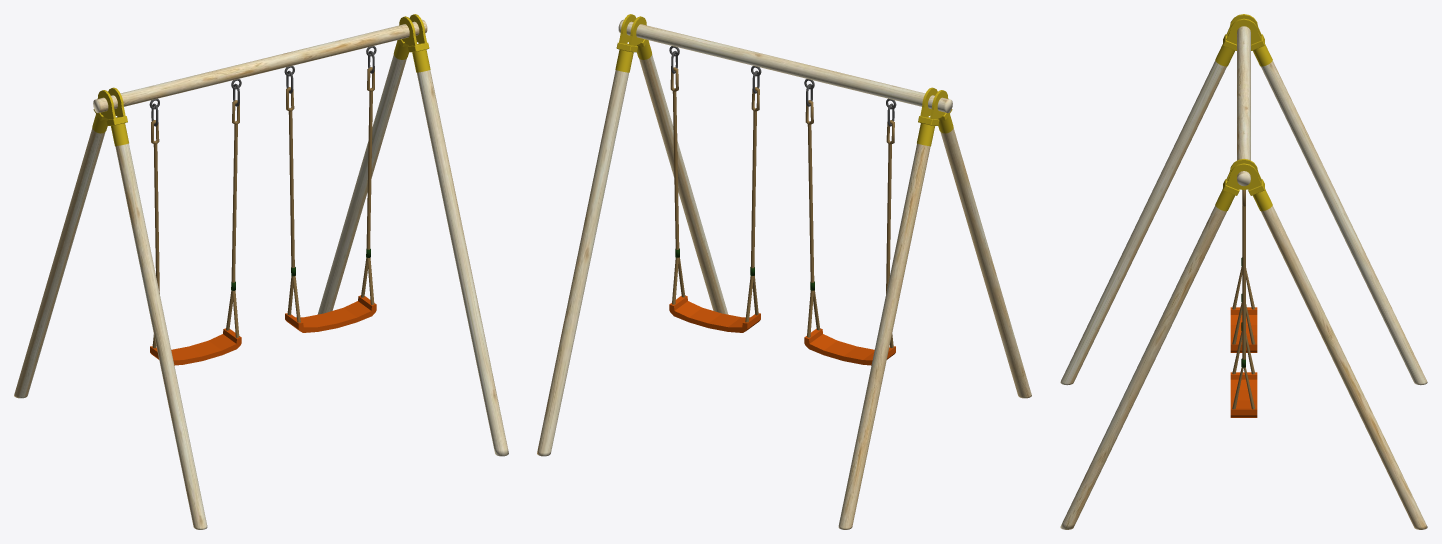
Rendered from child_swing.obj.
3 views of the same model, side by side, from view 1: azimuth 30°, elevation 25°; view 2: azimuth 150°, elevation 25°; view 3: azimuth 270°, elevation 25° (orthographic).
Visible parts, largest first — view 1: Cylinder.004_Cylinder.007, Cylinder.001_Cylinder.004, Cylinder.002_Cylinder.005, Cylinder_Cylinder.003, Cylinder.003_Cylinder.006, Cylinder.005_Cylinder.008, Circle.001_Circle.002, Circle.000_Circle.004, Cube.001_Cube.002, Cube_Cube.001; view 2: Cylinder.003_Cylinder.006, Cylinder_Cylinder.003, Cylinder.002_Cylinder.005, Cylinder.001_Cylinder.004, Cylinder.004_Cylinder.007, Cylinder.005_Cylinder.008, Circle.001_Circle.002, Circle.000_Circle.004, Cube.001_Cube.002, Cube_Cube.001; view 3: Cylinder.004_Cylinder.007, Cylinder.003_Cylinder.006, Cylinder.001_Cylinder.004, Cylinder_Cylinder.003, Cylinder.005_Cylinder.008, Cylinder.002_Cylinder.005, Circle.001_Circle.002, Cube.001_Cube.002, Cube_Cube.001, Circle.000_Circle.004.
Boxes of the visible parts, x1,y1,x2,y2 form: Cylinder.004_Cylinder.007: (417, 70, 508, 456); Cylinder.001_Cylinder.004: (115, 143, 207, 529); Cylinder.002_Cylinder.005: (93, 19, 427, 112); Cylinder_Cylinder.003: (14, 128, 105, 398); Cylinder.003_Cylinder.006: (317, 54, 406, 314); Cylinder.005_Cylinder.008: (92, 14, 430, 146); Circle.001_Circle.002: (286, 67, 374, 322); Circle.000_Circle.004: (151, 100, 239, 348); Cube.001_Cube.002: (285, 295, 376, 332); Cube_Cube.001: (150, 328, 241, 365); Cylinder.003_Cylinder.006: (537, 70, 628, 456); Cylinder_Cylinder.003: (838, 143, 930, 529); Cylinder.002_Cylinder.005: (618, 19, 952, 112); Cylinder.001_Cylinder.004: (940, 128, 1031, 398); Cylinder.004_Cylinder.007: (639, 54, 728, 314); Cylinder.005_Cylinder.008: (615, 14, 953, 146); Circle.001_Circle.002: (670, 67, 759, 322); Circle.000_Circle.004: (805, 100, 894, 347); Cube.001_Cube.002: (669, 295, 760, 332); Cube_Cube.001: (804, 328, 895, 365); Cylinder.004_Cylinder.007: (1060, 205, 1226, 529); Cylinder.003_Cylinder.006: (1261, 205, 1427, 529); Cylinder.001_Cylinder.004: (1060, 60, 1226, 385); Cylinder_Cylinder.003: (1261, 61, 1427, 385); Cylinder.005_Cylinder.008: (1215, 14, 1272, 211); Cylinder.002_Cylinder.005: (1237, 26, 1250, 186); Circle.001_Circle.002: (1232, 190, 1254, 409); Cube.001_Cube.002: (1230, 372, 1257, 417); Cube_Cube.001: (1230, 307, 1257, 352); Circle.000_Circle.004: (1232, 257, 1254, 344).
Bounding box in the file's own units: 163 × 176 × 161.
Materials: 6 (1 with a texture image).
